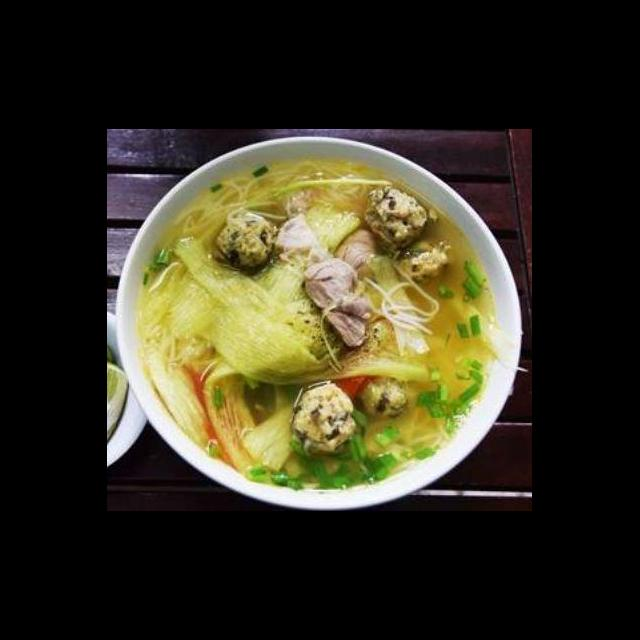bun: (172, 156, 330, 243), (359, 257, 444, 341)
vien moc: (288, 377, 364, 459), (206, 206, 290, 280), (360, 186, 434, 255), (394, 236, 460, 286), (358, 372, 418, 418)
